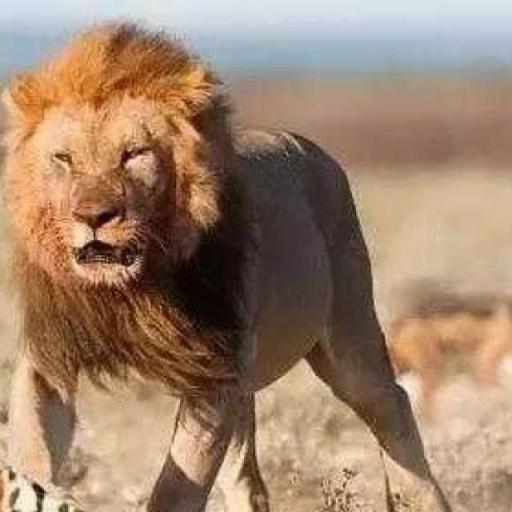Lion: (0, 18, 463, 510)
